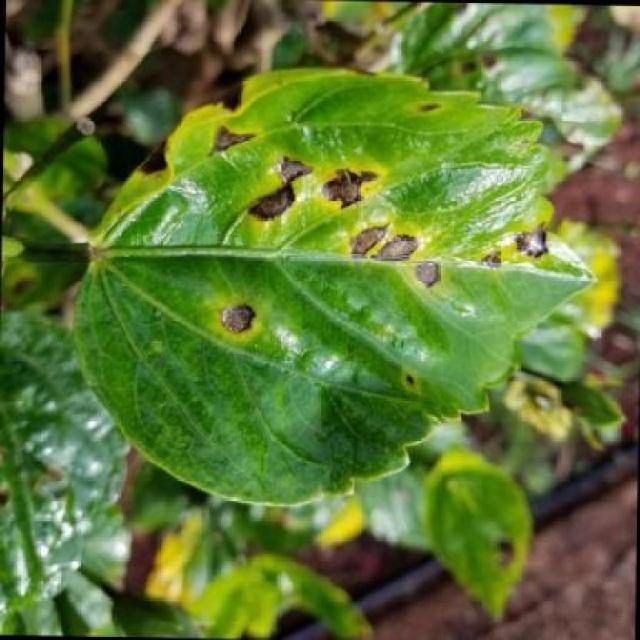Tomato leaf bacterial spot: (72, 60, 607, 520)
